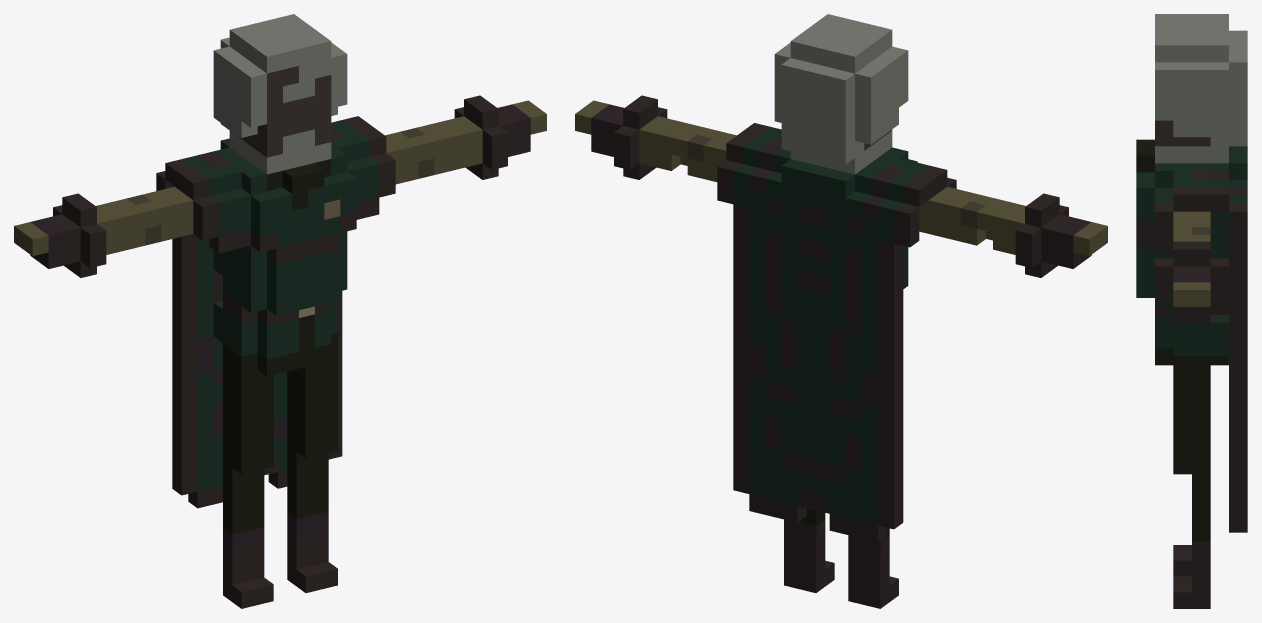
File: TPose_Character.glb
3 views of the same model, side by side, from view 1: azimuth 30°, elevation 25°; view 2: azimuth 150°, elevation 25°; view 3: azimuth 270°, elevation 25° (orthographic).
Parts seen in each view (by area): view 1: Character; view 2: Character; view 3: Character.
Part boxes in pixels (x1,y1,x2,y2): Character: (14, 14, 546, 608); Character: (575, 14, 1107, 608); Character: (1136, 14, 1247, 608).
Size of the model in its own units: 1.94 by 2 by 0.3635.
Materials: 1 (1 with a texture image).
